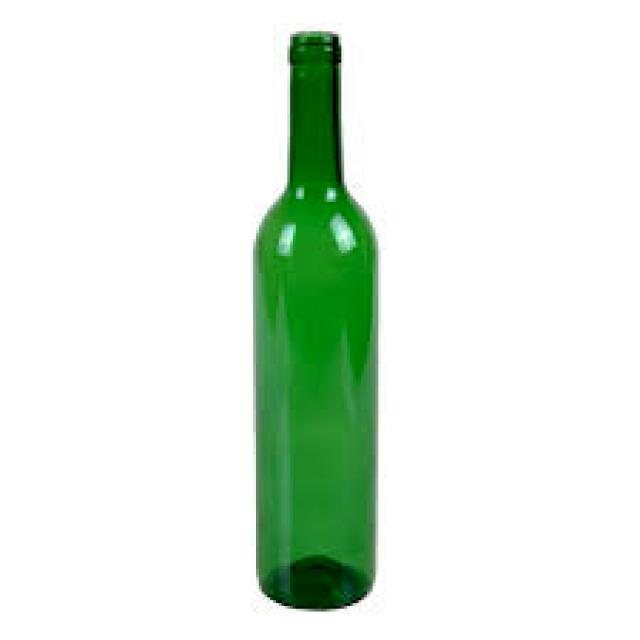Glass: (247, 28, 385, 613)
